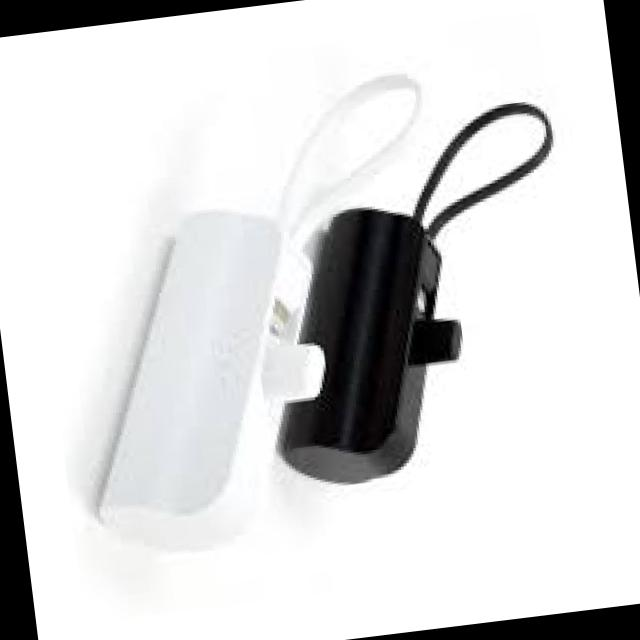power_bank: (55, 196, 346, 564), (242, 198, 482, 497)
